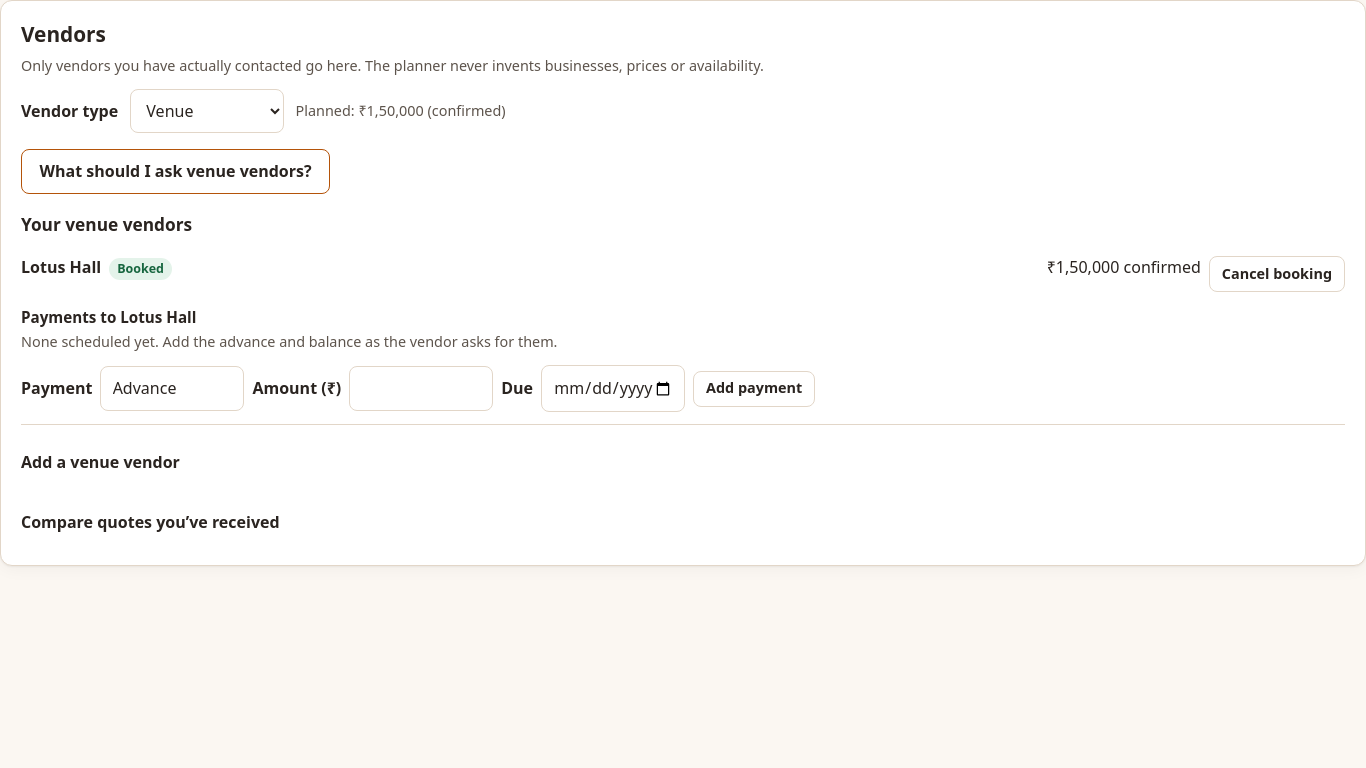
vendor payments › explains a payment the plan refuses, keeping what was typed
The image size is (1366, 768).
Type "50000" into the number field labelled "Amount (₹)" at (421, 389), box [349,366,493,411]
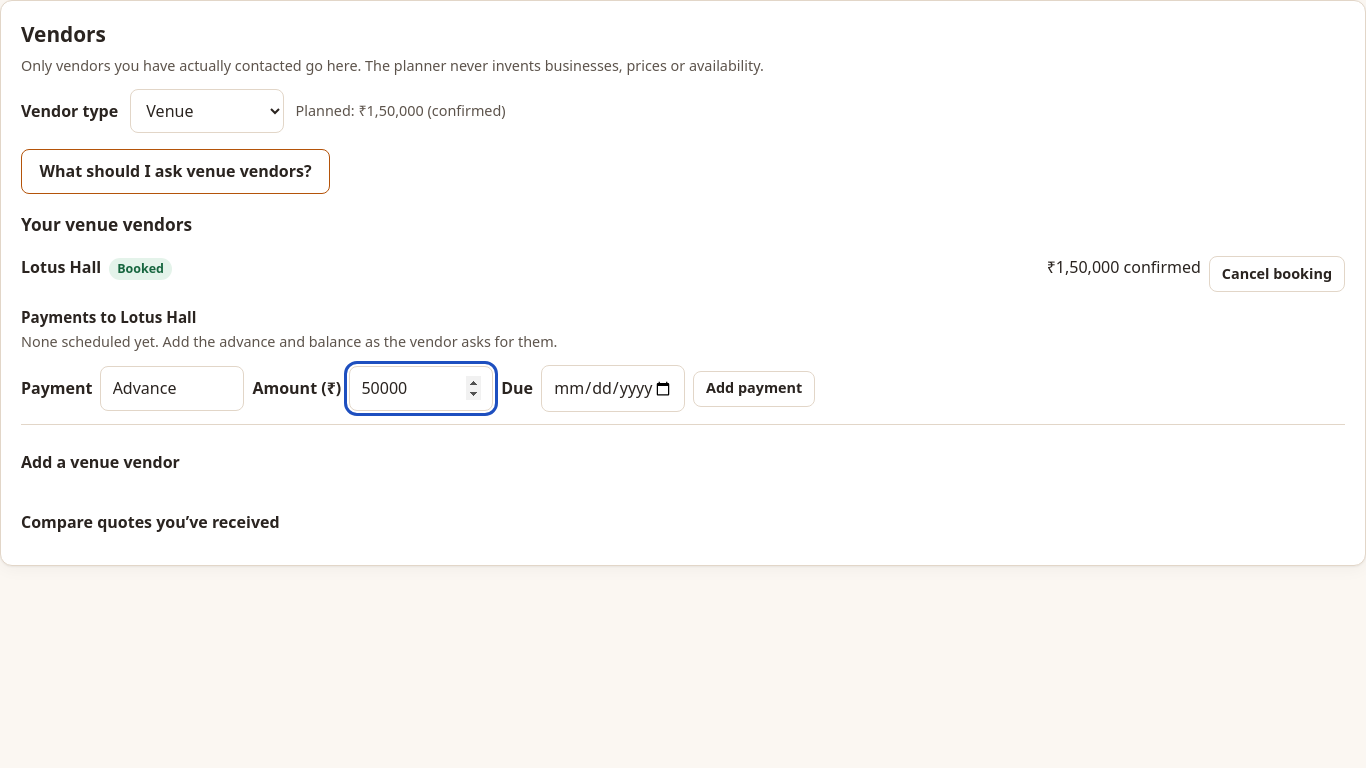
Click the button "Add payment" at (754, 389), box [693,371,815,407]
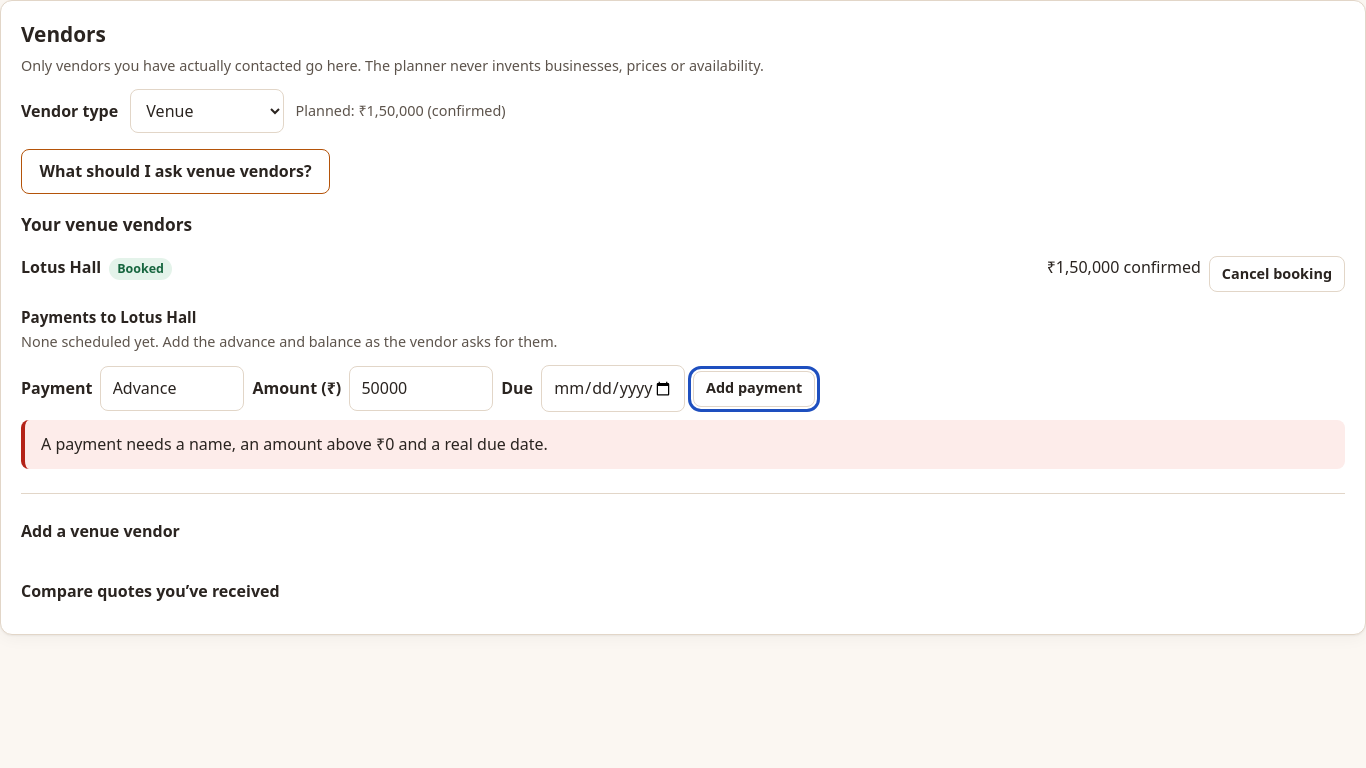
Now the message reads "A payment needs a name, an amount above ₹0 and a real due date.", box [41,433,548,455]
